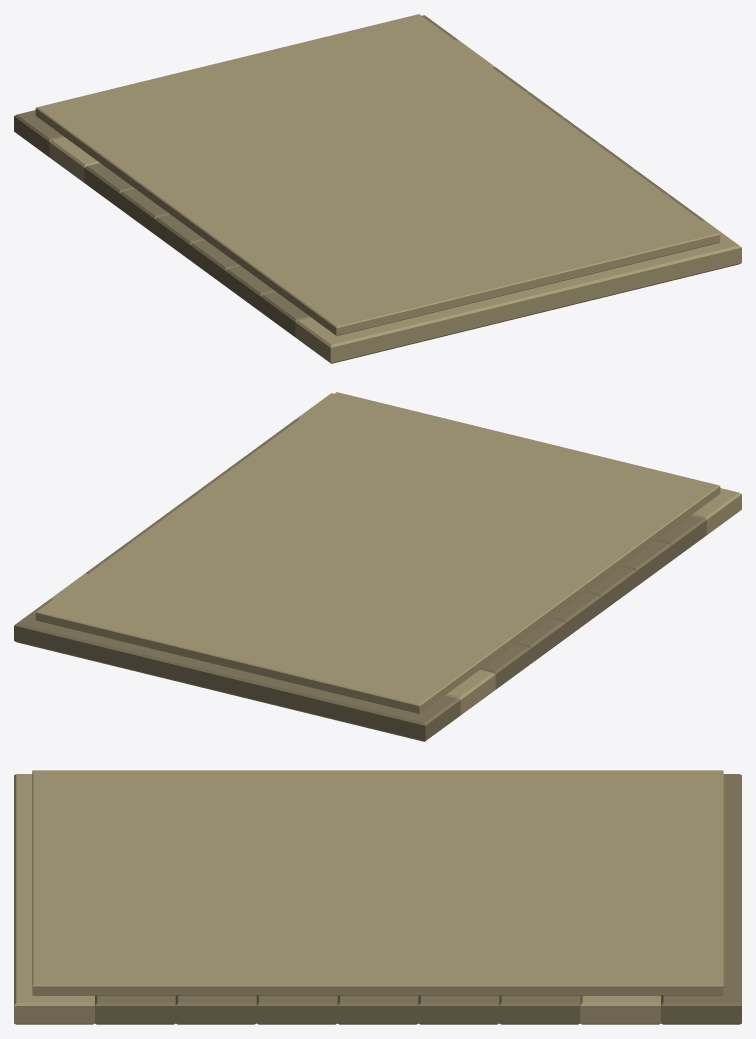
File: Roof.obj
The picture shows the model from 3 angles, top to bottom: view 1: azimuth 30°, elevation 25°; view 2: azimuth 150°, elevation 25°; view 3: azimuth 270°, elevation 25°; orthographic projection. The views are drawn at different scales.
Visible parts, largest first — view 1: Roof; view 2: Roof; view 3: Roof.
Part boxes in pixels (x1,y1,x2,y2): Roof: (14,14,741,363); Roof: (14,392,741,741); Roof: (14,770,741,1024).
Bounding box in the file's own units: 18 × 1.2 × 24.
